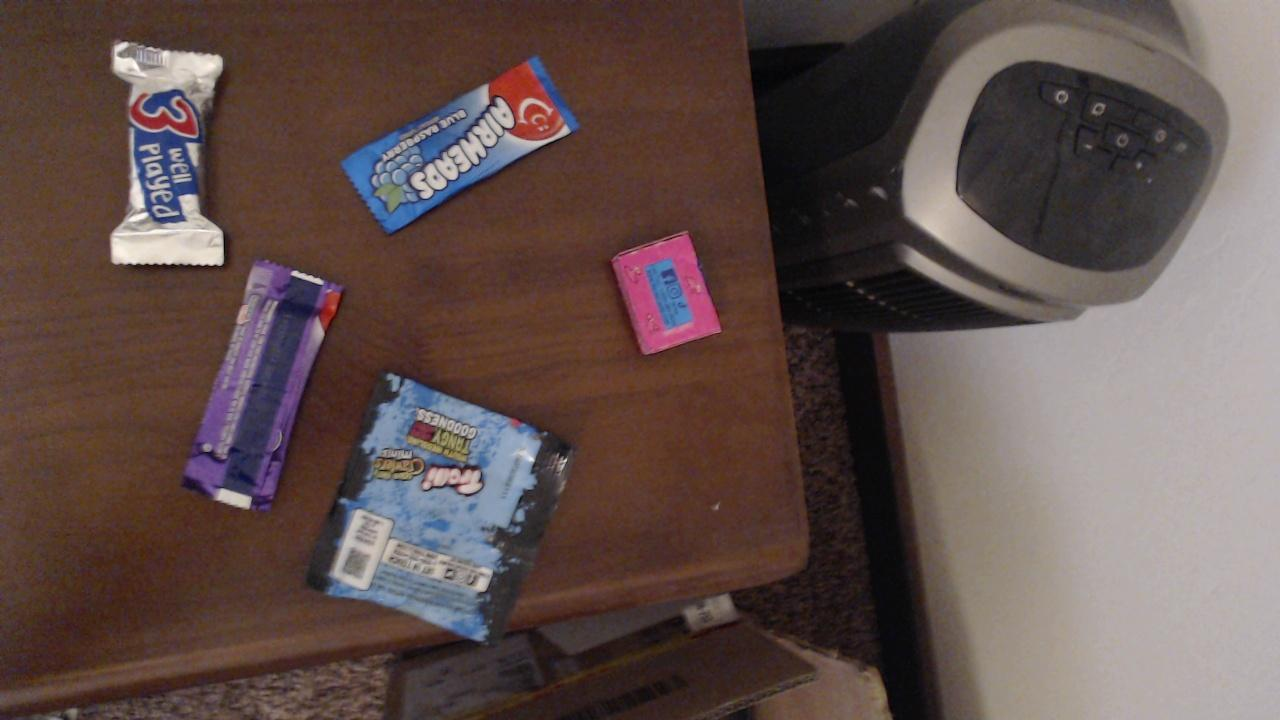Trolli: (306, 373, 572, 646)
airheads: (340, 54, 582, 236), (181, 261, 343, 511)
nerds: (611, 229, 720, 355)
three: (109, 42, 226, 268)
